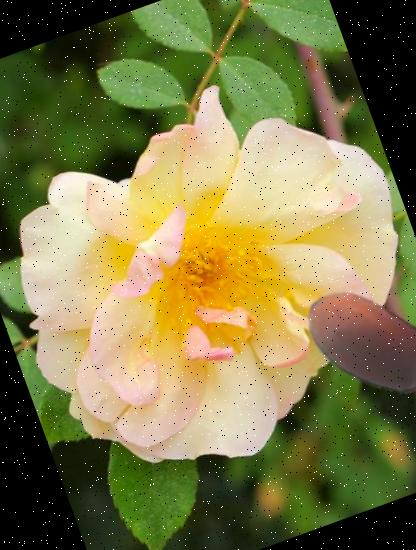Hazelnut: (279, 251, 416, 428)
